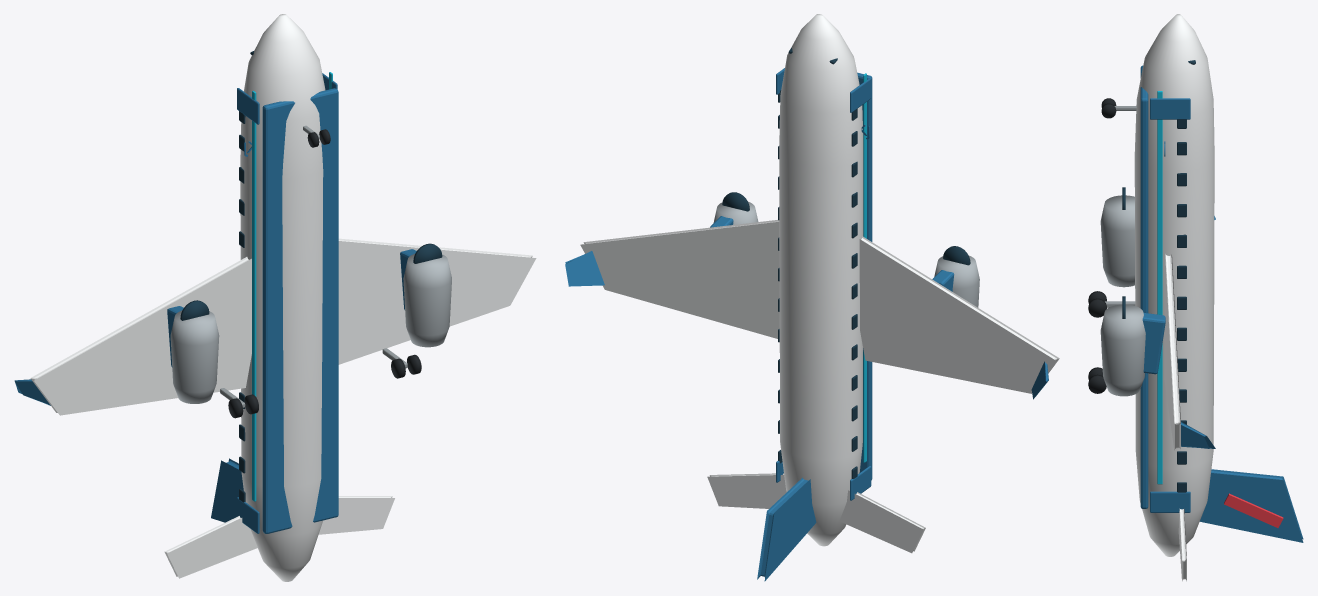
The model's file is kj281-aircraft.glb.
3 views of the same model, side by side, from view 1: azimuth 30°, elevation 25°; view 2: azimuth 150°, elevation 25°; view 3: azimuth 270°, elevation 25° (orthographic). The views are drawn at different scales.
Visible parts, largest first — view 1: Fuselage, BlueBelly, MainWing_-1, MainWing_1, Engine_-1, Engine_1, HorizontalTail_-1, HorizontalTail_1, CyanStripe_-1, VerticalTail; view 2: Fuselage, MainWing_-1, MainWing_1, VerticalTail, HorizontalTail_-1, HorizontalTail_1, BlueBelly, Engine_-1, Winglet_1, CyanStripe_-1, Engine_1; view 3: Fuselage, VerticalTail, Engine_1, BlueBelly, Engine_-1, MainWing_1, CyanStripe_1, Pylon_1, Door_1_4.35, Door_1_-4.55, RedTailSlash_1, Winglet_1 (+2 smaller).
Boxes of the visible parts, x1,y1,x2,y2 form: Fuselage: (240, 14, 325, 581); BlueBelly: (262, 88, 338, 533); MainWing_-1: (30, 257, 251, 415); MainWing_1: (338, 238, 536, 364); Engine_-1: (170, 310, 219, 403); Engine_1: (403, 254, 451, 347); HorizontalTail_-1: (164, 516, 257, 578); HorizontalTail_1: (318, 496, 394, 534); CyanStripe_-1: (252, 90, 256, 501); VerticalTail: (211, 458, 243, 522); Fuselage: (779, 14, 863, 546); MainWing_-1: (859, 236, 1059, 393); MainWing_1: (580, 220, 779, 338); VerticalTail: (757, 477, 816, 581); HorizontalTail_-1: (839, 490, 925, 553); HorizontalTail_1: (707, 473, 786, 508); BlueBelly: (857, 72, 872, 480); Engine_-1: (934, 255, 979, 307); Winglet_1: (565, 251, 604, 286); CyanStripe_-1: (863, 73, 866, 462); Engine_1: (713, 201, 758, 224); Fuselage: (1134, 14, 1214, 556); VerticalTail: (1199, 469, 1303, 542); Engine_1: (1100, 304, 1145, 396); BlueBelly: (1140, 65, 1148, 508); Engine_-1: (1100, 195, 1134, 287); MainWing_1: (1164, 253, 1180, 450); CyanStripe_1: (1157, 91, 1162, 484); Pylon_1: (1142, 313, 1165, 374); Door_1_4.35: (1150, 98, 1190, 119); Door_1_-4.55: (1150, 491, 1190, 512); RedTailSlash_1: (1224, 493, 1283, 527); Winglet_1: (1181, 422, 1215, 448).
Size of the model in its own units: 11.62 by 12.2 by 4.41.
